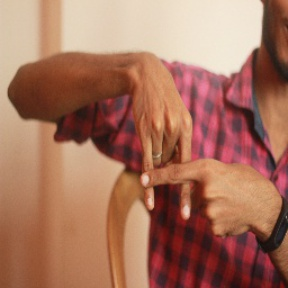H: (125, 116, 220, 225)
